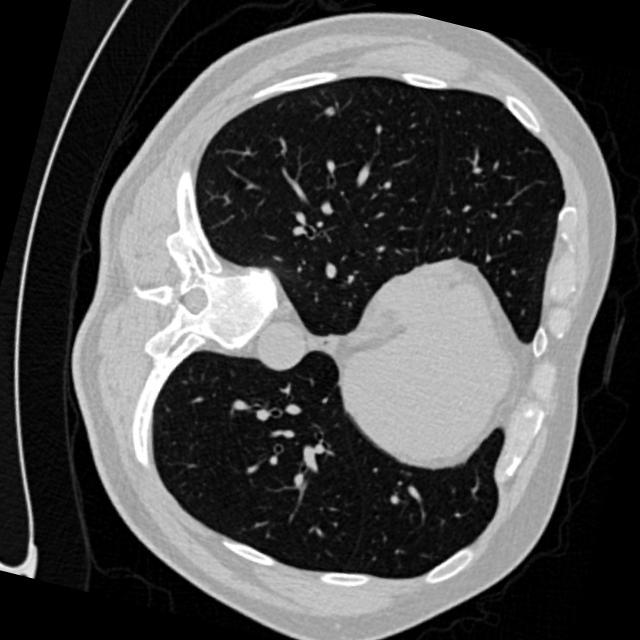nodule: (317, 95, 344, 122)
